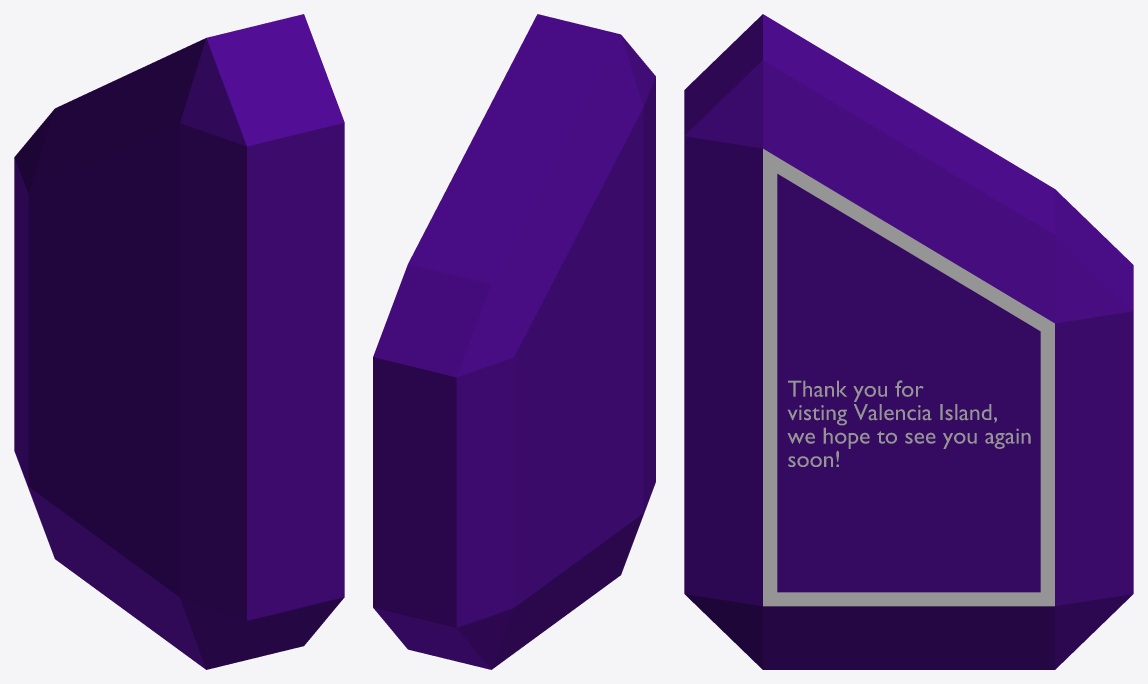
The model's file is valencia_island_sign_4.fbx.
3 views of the same model, side by side, from view 1: azimuth 30°, elevation 25°; view 2: azimuth 150°, elevation 25°; view 3: azimuth 270°, elevation 25° (orthographic). The views are drawn at different scales.
Visible parts, largest first — view 1: Cube.001; view 2: Cube.001; view 3: Cube.001, Text.
Part boxes in pixels (left/top/right/bottom): Cube.001: left=14, top=14, right=344, bottom=669; Cube.001: left=373, top=14, right=655, bottom=669; Cube.001: left=684, top=14, right=1133, bottom=669; Text: left=787, top=380, right=1030, bottom=466.
Bounding box in the file's own units: 13 × 52.06 × 34.77.
